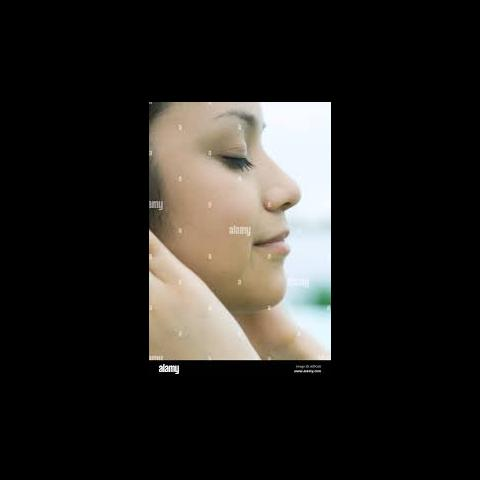closed: (204, 104, 272, 176)
